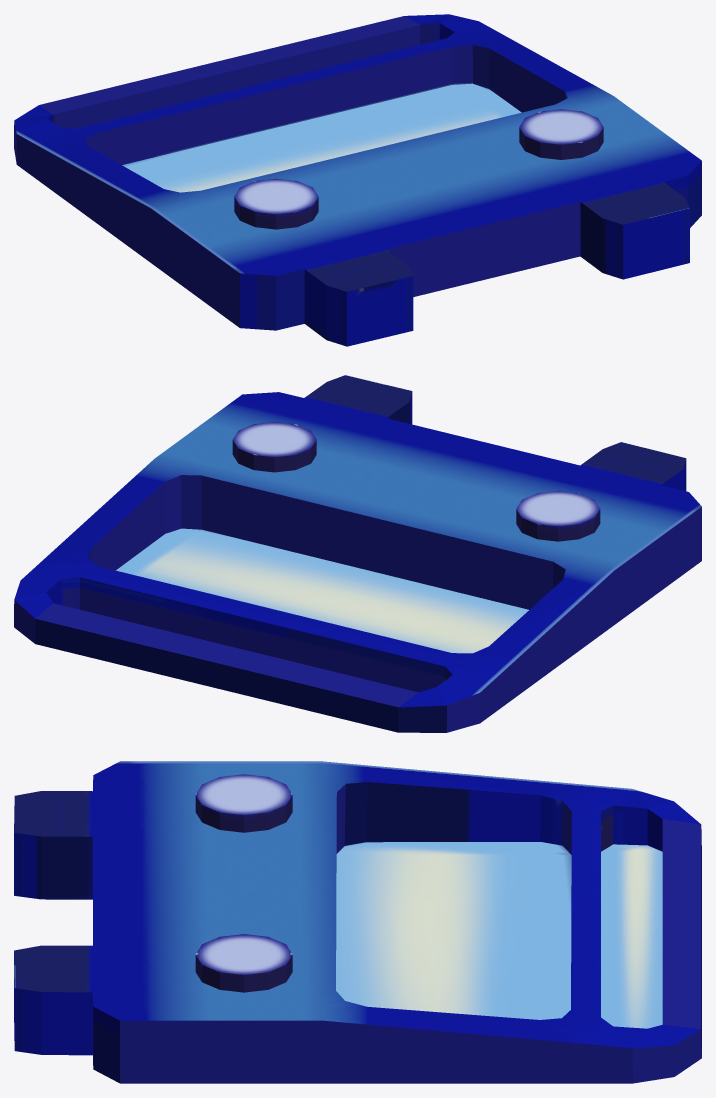
Rendered from model_bus.obj.
The picture shows the model from 3 angles, top to bottom: view 1: azimuth 30°, elevation 25°; view 2: azimuth 150°, elevation 25°; view 3: azimuth 270°, elevation 25°; orthographic projection. The views are drawn at different scales.
Visible parts, largest first — view 1: Bus_Plane, Cylinder, Cylinder.001; view 2: Bus_Plane, Cylinder.001, Cylinder; view 3: Bus_Plane, Cylinder, Cylinder.001.
Part boxes in pixels (x1,y1,x2,y2): Bus_Plane: (14, 14, 701, 346); Cylinder: (234, 178, 318, 229); Cylinder.001: (519, 109, 603, 159); Bus_Plane: (14, 375, 701, 732); Cylinder.001: (232, 422, 316, 472); Cylinder: (516, 491, 600, 541); Bus_Plane: (14, 761, 701, 1083); Cylinder: (195, 774, 292, 832); Cylinder.001: (195, 934, 292, 992).
Bounding box in the file's own units: 1.77 × 0.256 × 1.98.
Materials: 1 (1 with a texture image).
